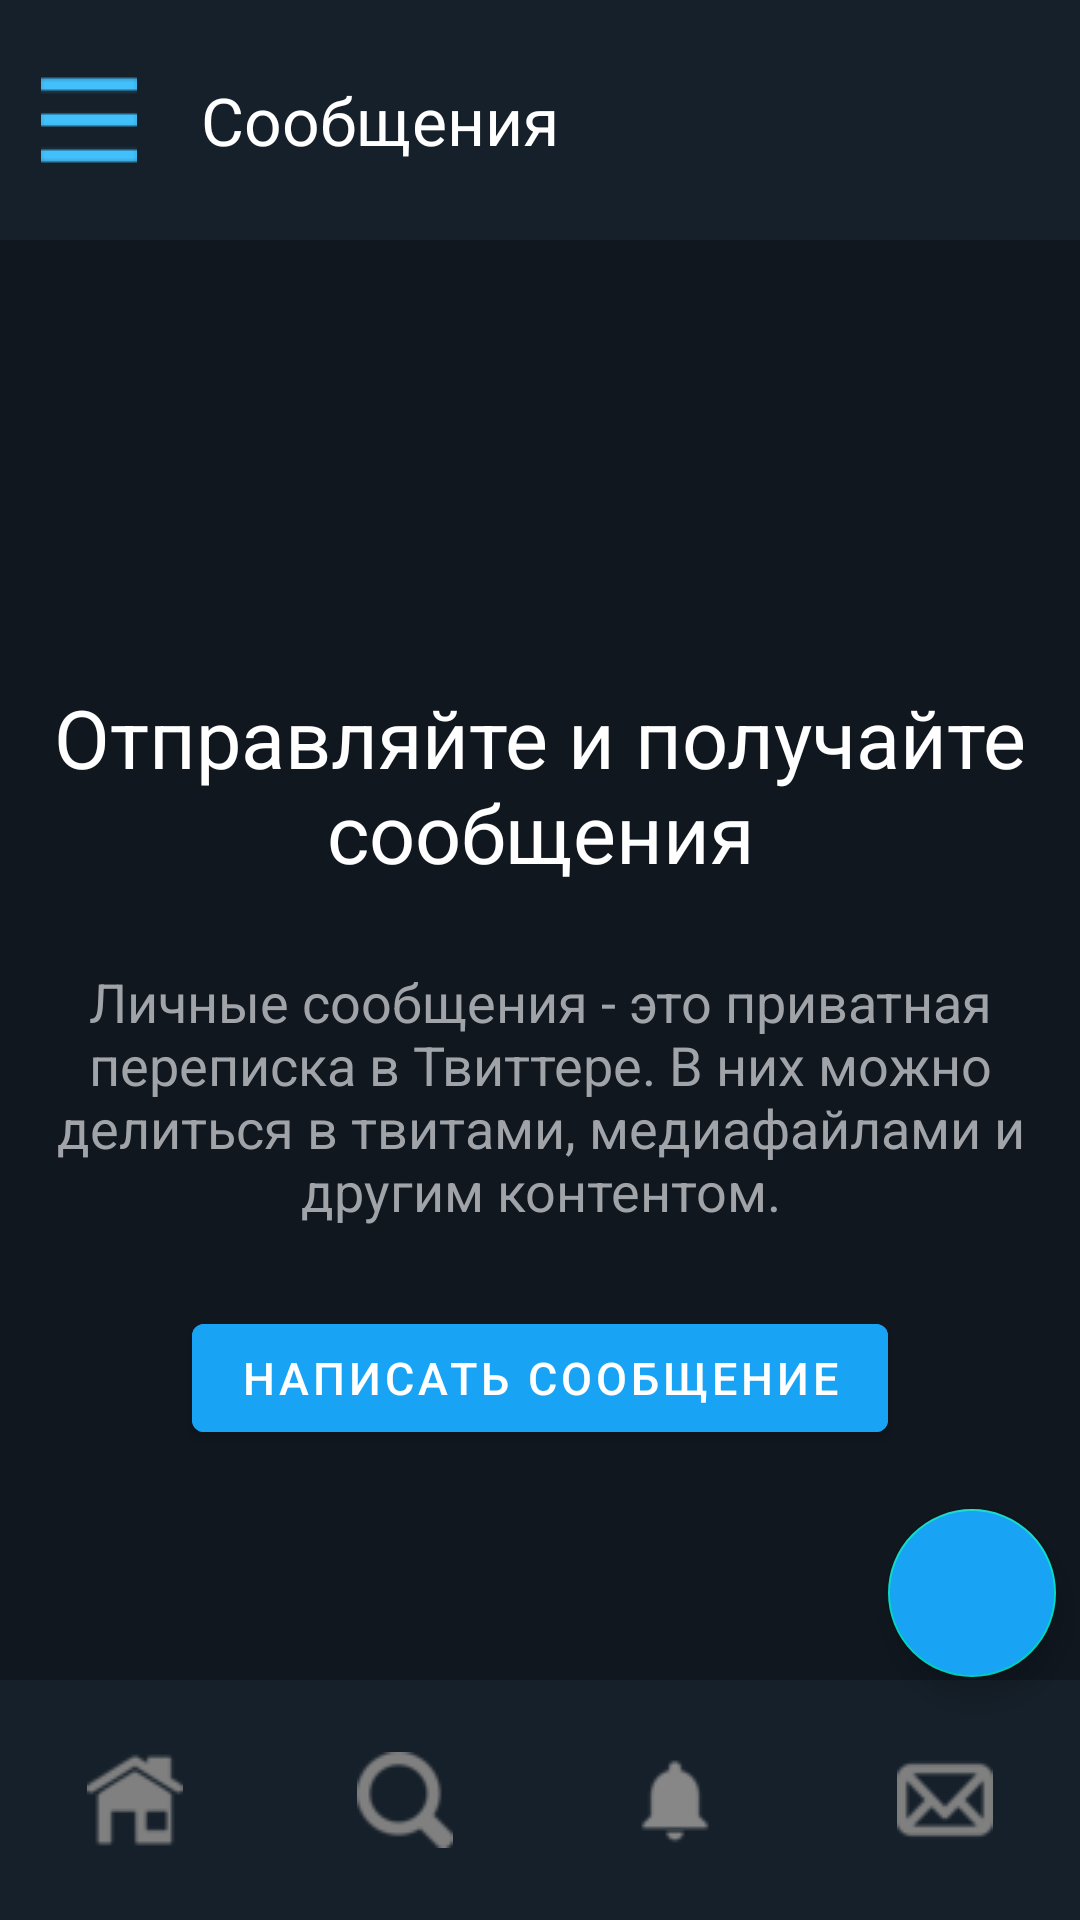

Point at icon controls on the screen. Image size 1080*1920, points as point (x, y).
bell: point (675, 1801)
home: point (135, 1800)
mail: point (945, 1800)
menu: point (89, 120)
search: point (405, 1800)
